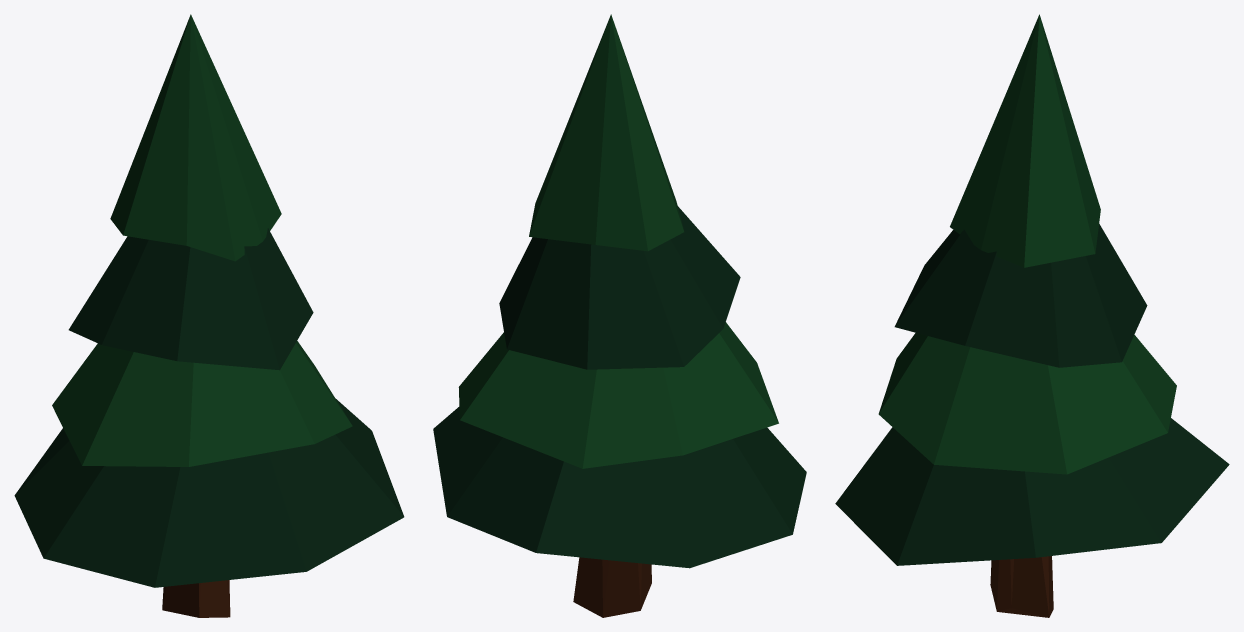
File: world_tree_conifer_l.fbx
3 views of the same model, side by side, from view 1: azimuth 30°, elevation 25°; view 2: azimuth 150°, elevation 25°; view 3: azimuth 270°, elevation 25° (orthographic).
Visible parts, largest first — view 1: world_tree_conifer_l; view 2: world_tree_conifer_l; view 3: world_tree_conifer_l.
Part boxes in pixels (bbox=[...]): world_tree_conifer_l: bbox=[14, 14, 404, 617]; world_tree_conifer_l: bbox=[433, 14, 806, 617]; world_tree_conifer_l: bbox=[835, 14, 1229, 617].
Size of the model in its own units: 1578 by 2622 by 1577.
